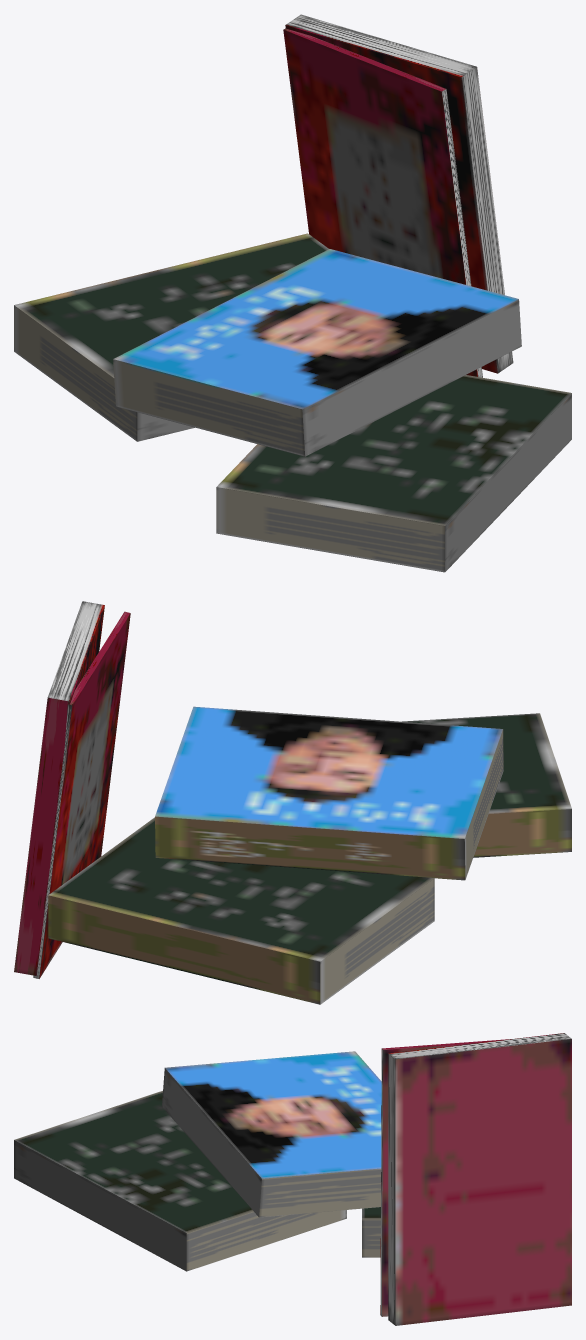
The model's file is books.fbx.
The picture shows the model from 3 angles, top to bottom: view 1: azimuth 30°, elevation 25°; view 2: azimuth 150°, elevation 25°; view 3: azimuth 270°, elevation 25°; orthographic projection. The views are drawn at different scales.
Parts seen in each view (by area): view 1: pCube6; view 2: pCube6; view 3: pCube6.
Part boxes in pixels (box(x1,y1,x2,y2)): pCube6: box(14, 14, 571, 572); pCube6: box(14, 601, 571, 1004); pCube6: box(14, 1033, 571, 1325).
Bounding box in the file's own units: 1.47 × 1.04 × 1.99.
Materials: 4 (4 with a texture image).
